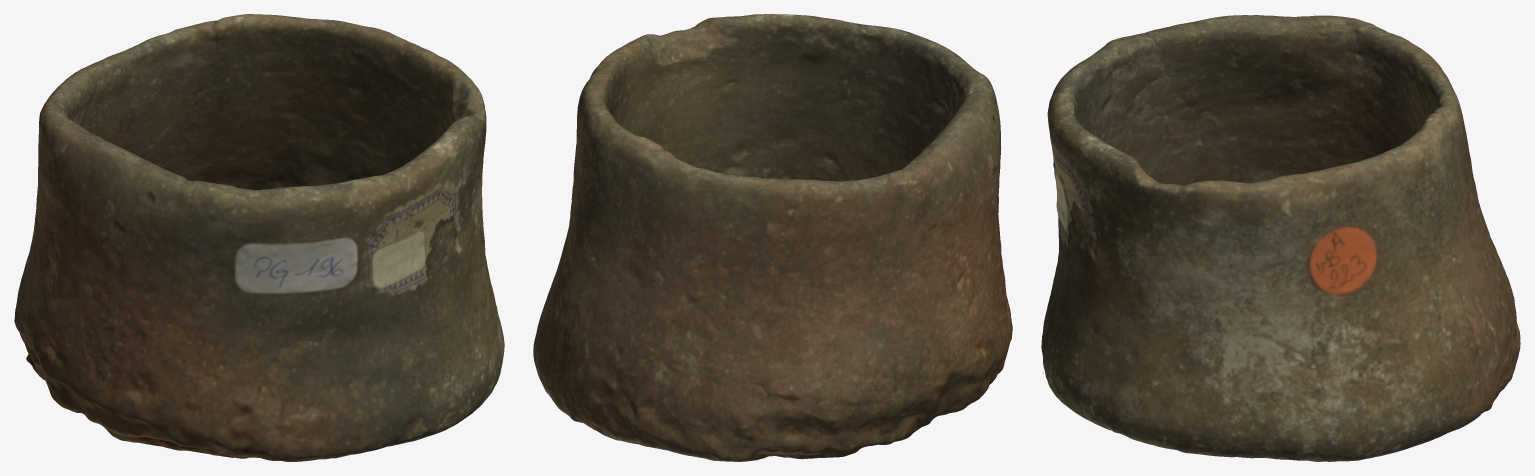
3 renders of one model, left to right at view 1: azimuth 30°, elevation 25°; view 2: azimuth 150°, elevation 25°; view 3: azimuth 270°, elevation 25°, orthographic. The views are drawn at different scales.
Visible parts, largest first — view 1: Object_2; view 2: Object_2; view 3: Object_2.
Part boxes in pixels (x1,y1,x2,y2): Object_2: (14, 14, 504, 461); Object_2: (533, 14, 1012, 461); Object_2: (1041, 14, 1520, 461).
Bounding box in the file's own units: 2.21 × 1.48 × 2.23.
Materials: 1 (1 with a texture image).
